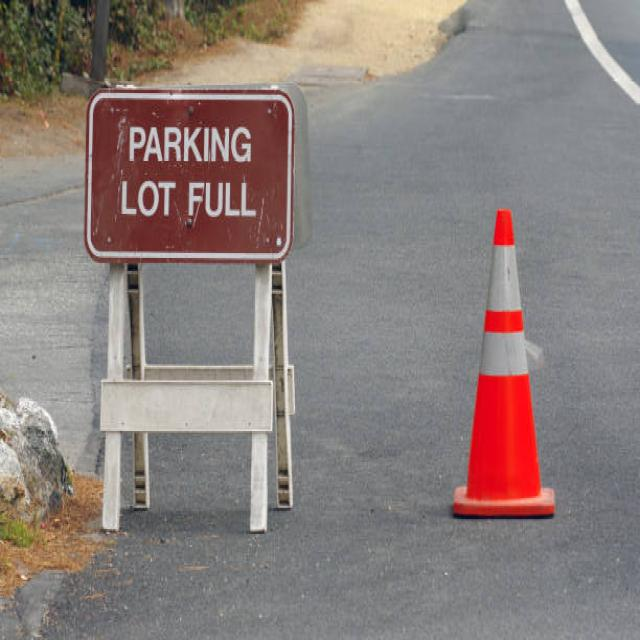Traffic Cone: (443, 194, 566, 543)
